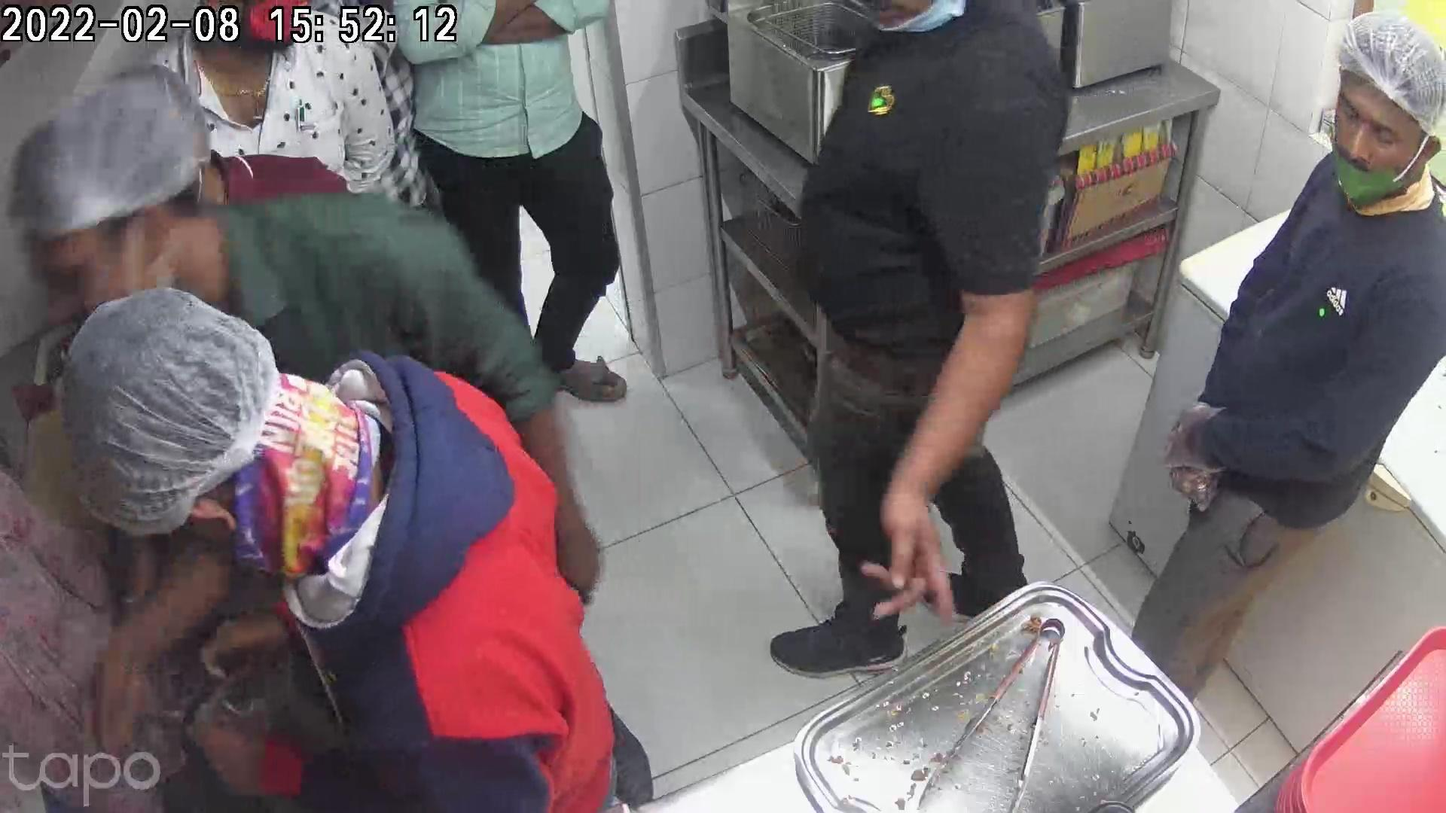no_gloves: (871, 468, 949, 616)
